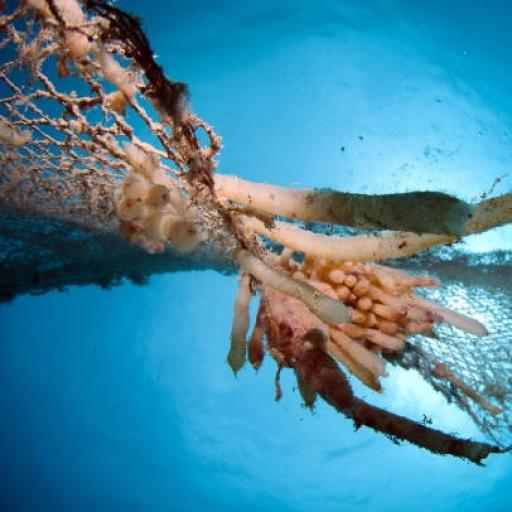net: (4, 0, 512, 486)
